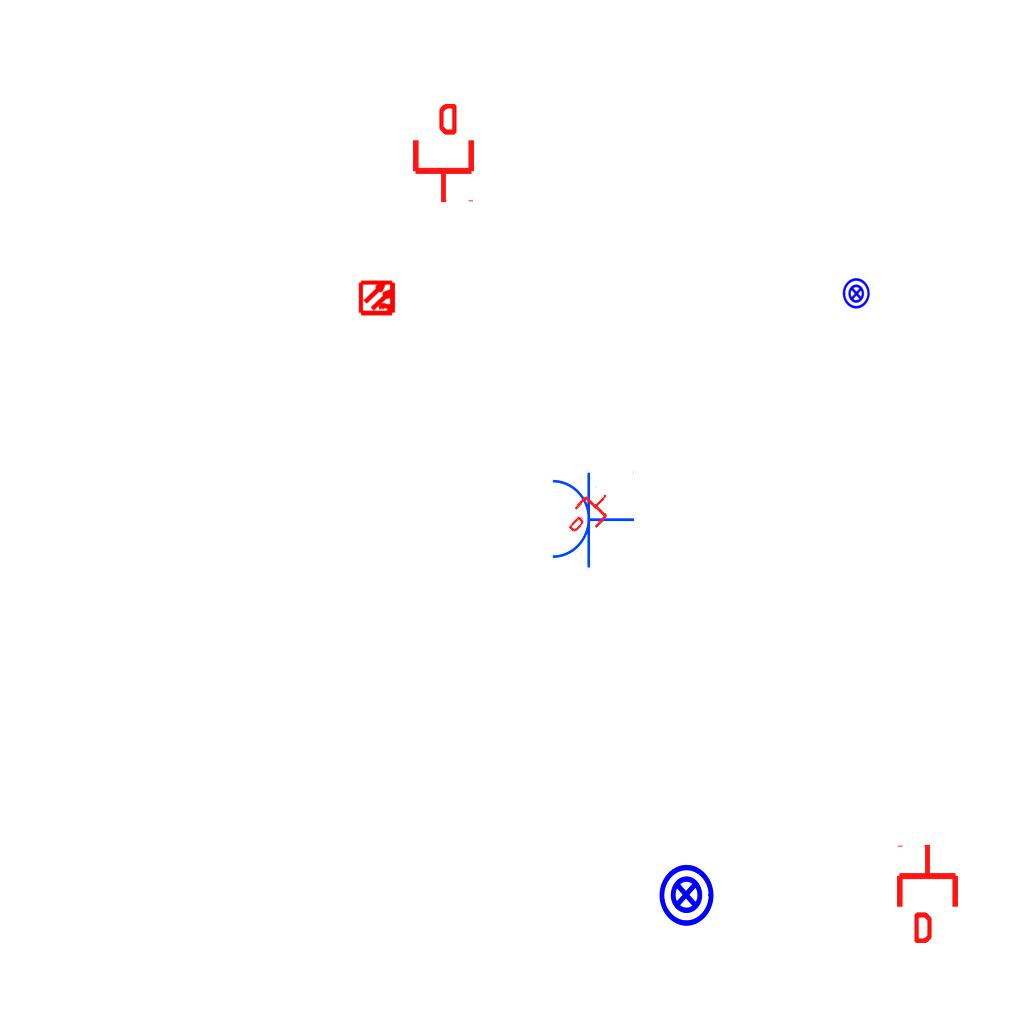Datenanschluss_einfach: (409, 104, 478, 204), (893, 843, 962, 943), (560, 483, 620, 543)
OT_Multisensormelder_(Kombination_RMO_WMD): (350, 270, 406, 326)
Schukosteckdose_einfach: (548, 469, 635, 569)
Taster_beleuchtet: (653, 862, 719, 928), (840, 277, 873, 310)
